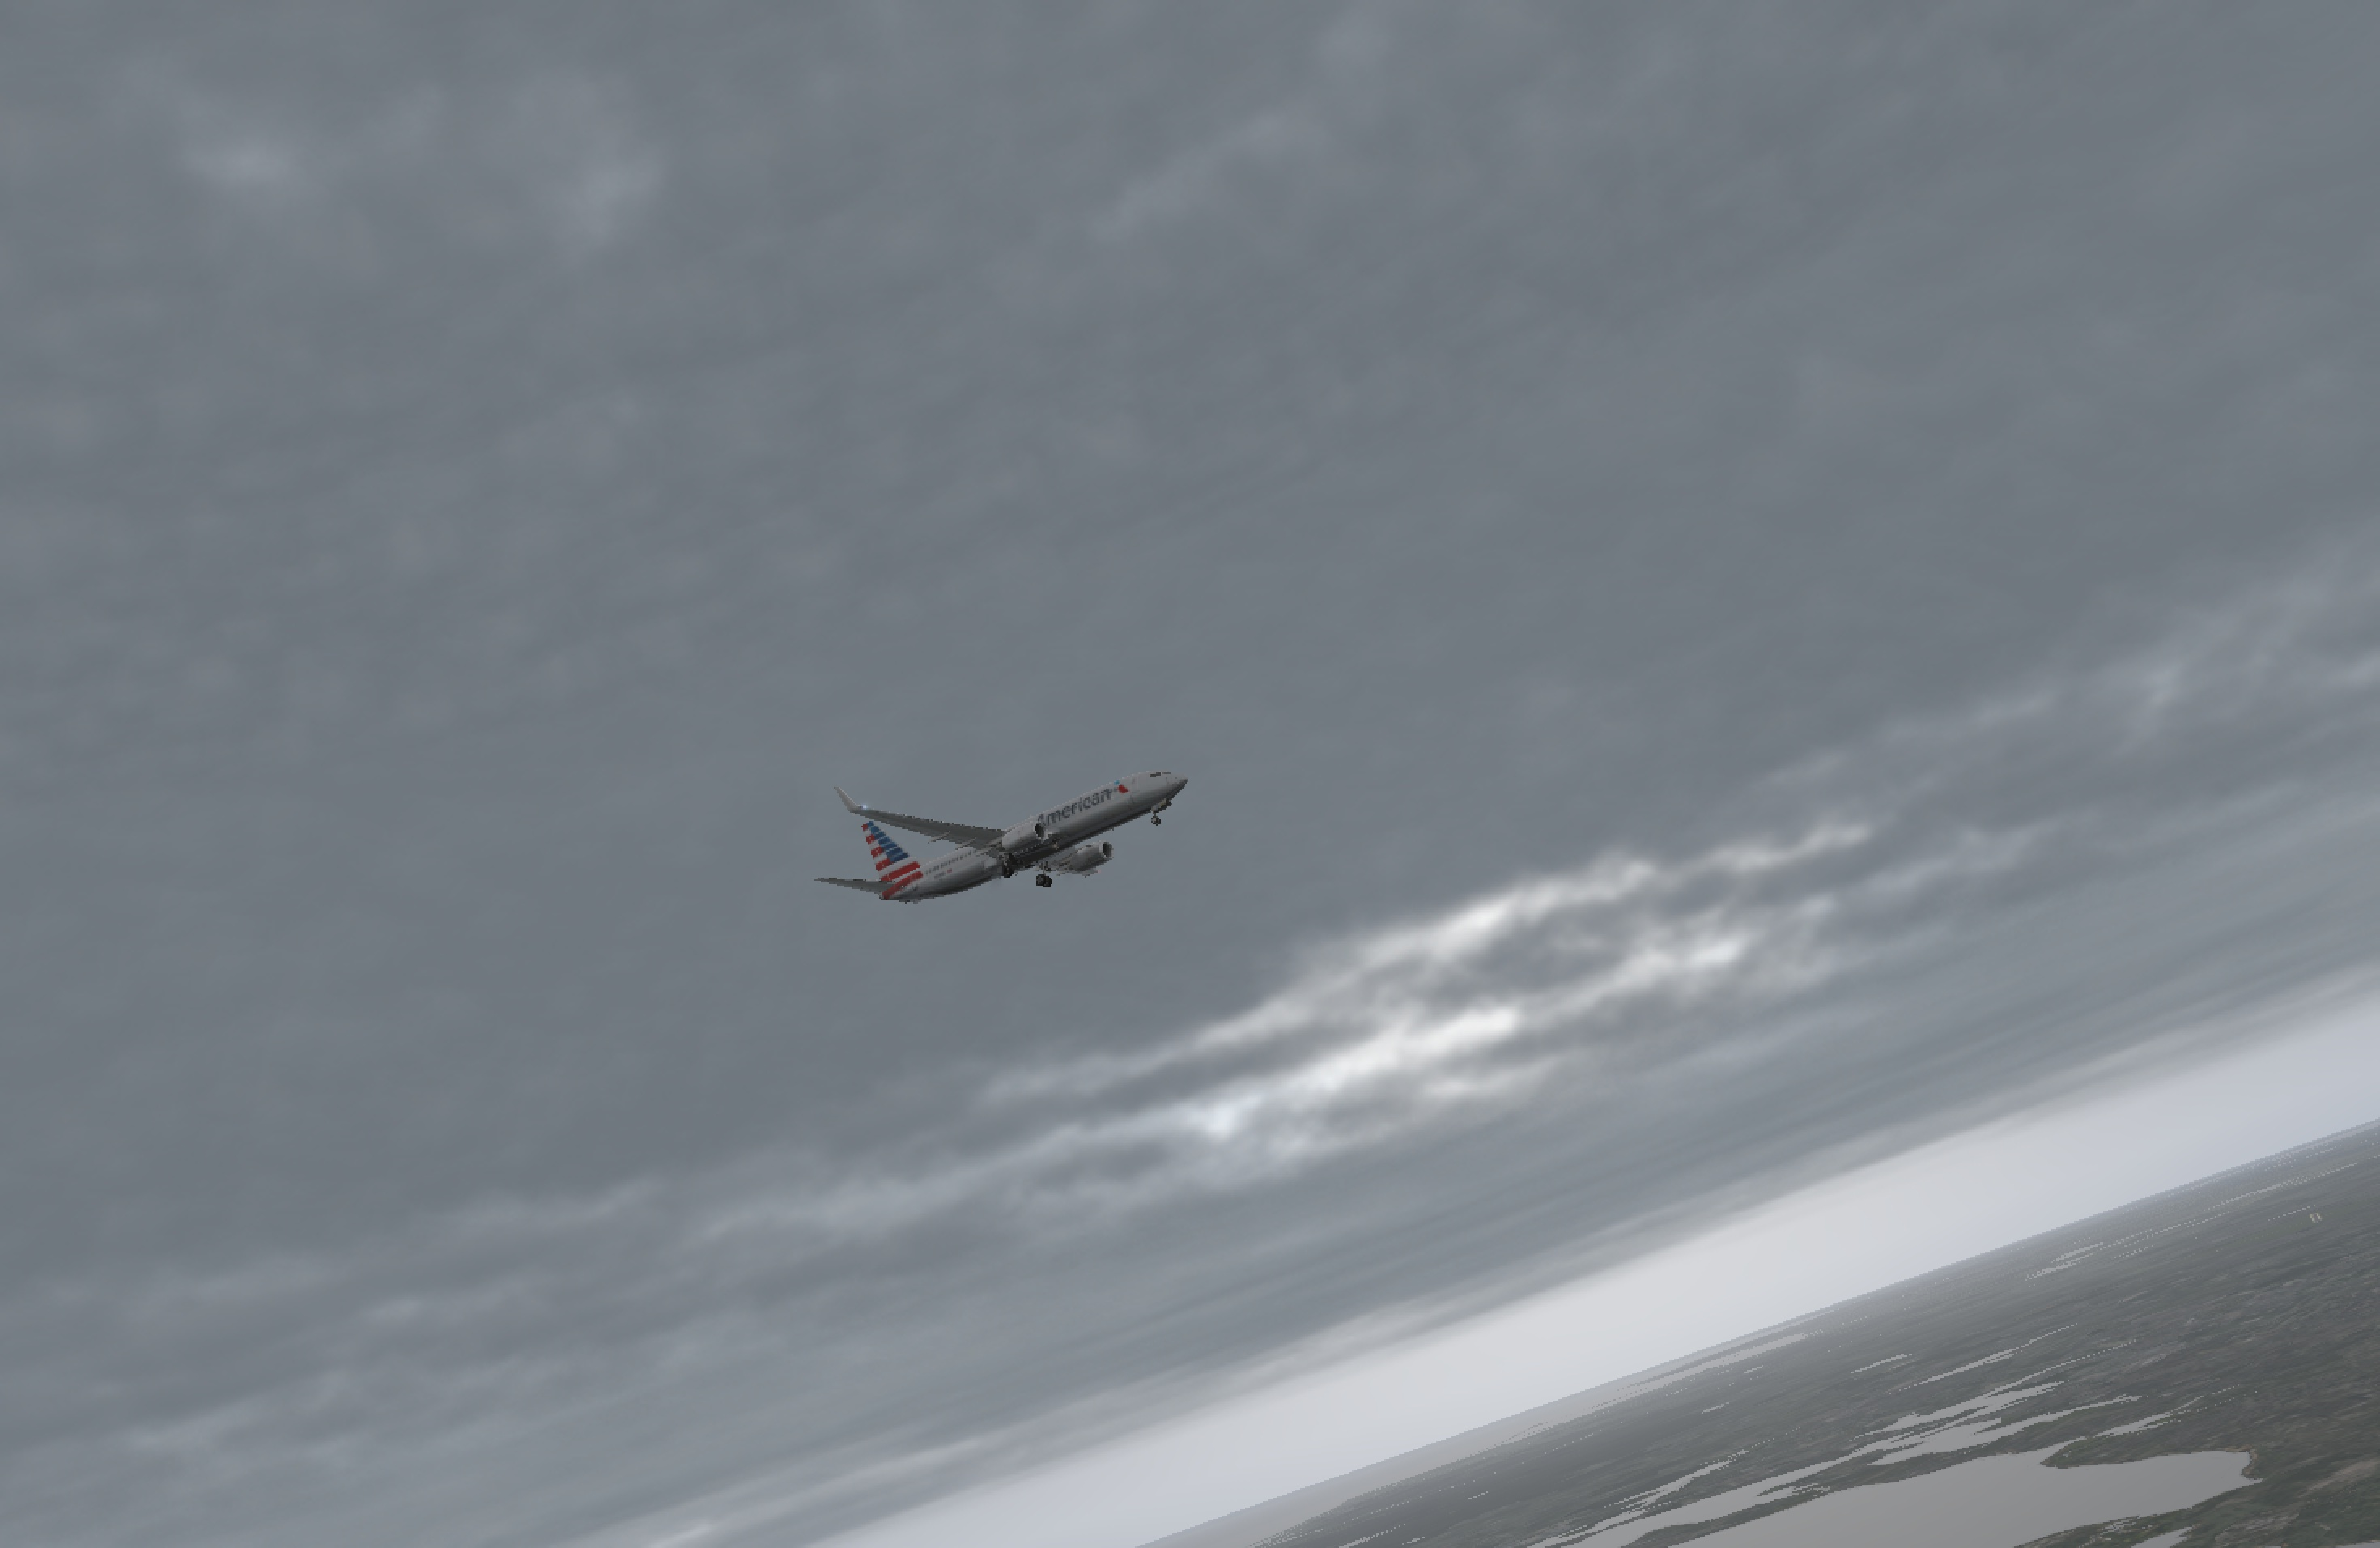aircraft: (823, 768, 1242, 925)
